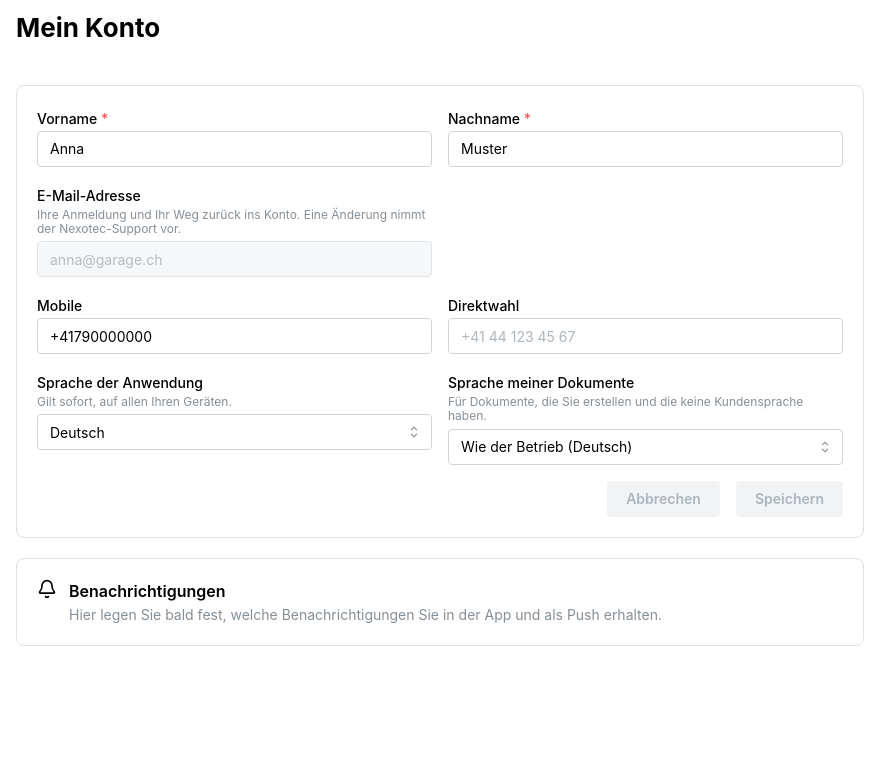
Scenario: My account (KAN-201) › an untouched profile takes in a newer version; an edited one saves against the version it was loaded from
Expected: the field showing "+41790000000" is shown, [37,318,432,354]
Expected: the button "Speichern" is disabled, [736,481,843,517]
Replace the text in the field labelled "Vorname *" with "Anja" at (234, 149), box [37,131,432,167]
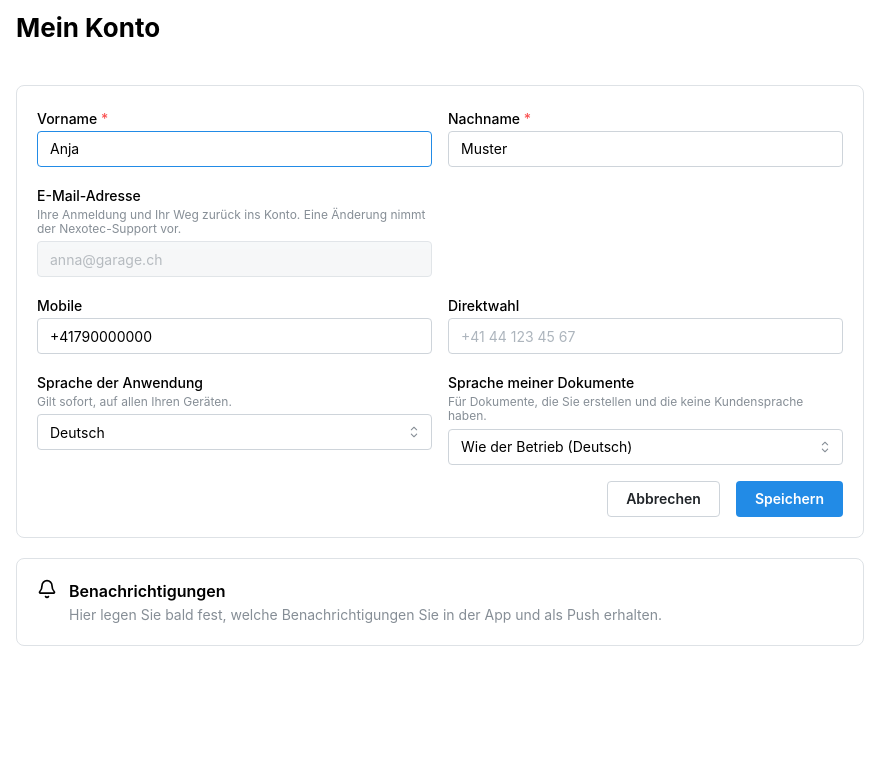
Click the button "Speichern" at (789, 499), box [736,481,843,517]
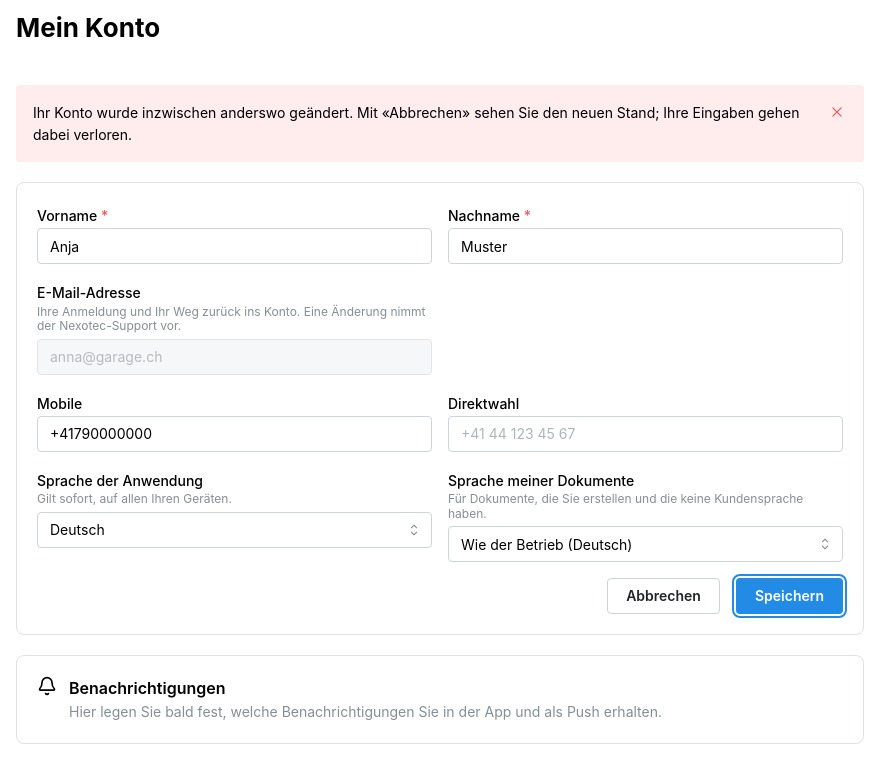
Result: the text "anderswo geändert" is shown at [33,104,800,143]
